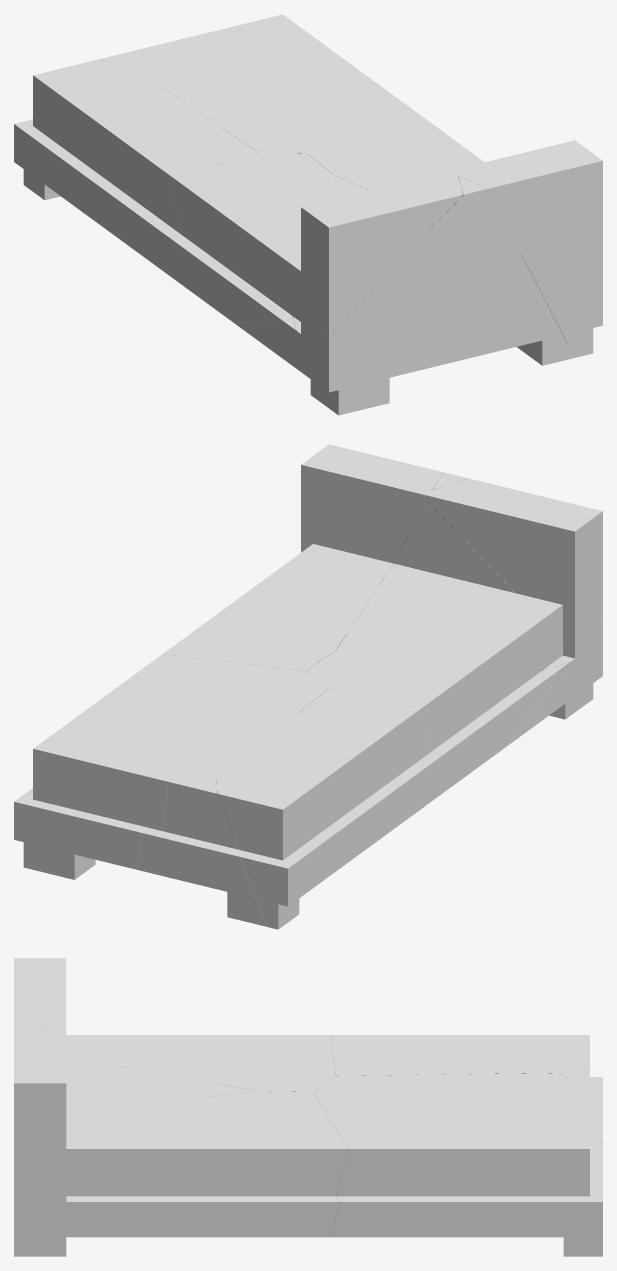
Rendered from Bed_DEST.fbx.
The picture shows the model from 3 angles, top to bottom: view 1: azimuth 30°, elevation 25°; view 2: azimuth 150°, elevation 25°; view 3: azimuth 270°, elevation 25°; orthographic projection. The views are drawn at different scales.
Parts seen in each view (by area): view 1: model:bedSingle:bedSingle_cell.001, model:bedSingle:bedSingle_cell.006, model:bedSingle:bedSingle_cell.005, model:bedSingle:bedSingle_cell.002, model:bedSingle:bedSingle_cell.004; view 2: model:bedSingle:bedSingle_cell.001, model:bedSingle:bedSingle_cell.004, model:bedSingle:bedSingle_cell.005, model:bedSingle:bedSingle_cell.002, model:bedSingle:bedSingle_cell.006, model:bedSingle:bedSingle_cell; view 3: model:bedSingle:bedSingle_cell.002, model:bedSingle:bedSingle_cell.004, model:bedSingle:bedSingle_cell.001, model:bedSingle:bedSingle_cell.005, model:bedSingle:bedSingle_cell.006, model:bedSingle:bedSingle_cell.
Part boxes in pixels (bbox=[...]): model:bedSingle:bedSingle_cell.001: bbox=[169, 153, 463, 334]; model:bedSingle:bedSingle_cell.006: bbox=[232, 175, 574, 415]; model:bedSingle:bedSingle_cell.005: bbox=[14, 59, 257, 280]; model:bedSingle:bedSingle_cell.002: bbox=[306, 109, 602, 357]; model:bedSingle:bedSingle_cell.004: bbox=[134, 14, 411, 153]; model:bedSingle:bedSingle_cell.001: bbox=[306, 478, 602, 787]; model:bedSingle:bedSingle_cell.004: bbox=[14, 654, 328, 879]; model:bedSingle:bedSingle_cell.005: bbox=[216, 688, 450, 929]; model:bedSingle:bedSingle_cell.002: bbox=[162, 444, 443, 670]; model:bedSingle:bedSingle_cell.006: bbox=[336, 472, 602, 746]; model:bedSingle:bedSingle_cell: bbox=[137, 776, 266, 926]; model:bedSingle:bedSingle_cell.002: bbox=[14, 1026, 348, 1256]; model:bedSingle:bedSingle_cell.004: bbox=[313, 1073, 602, 1256]; model:bedSingle:bedSingle_cell.001: bbox=[14, 958, 335, 1091]; model:bedSingle:bedSingle_cell.005: bbox=[331, 1035, 602, 1101]; model:bedSingle:bedSingle_cell.006: bbox=[14, 1019, 257, 1111]; model:bedSingle:bedSingle_cell: bbox=[558, 1065, 602, 1142].
Size of the model in its own units: 5.12 by 3.4 by 10.2.
